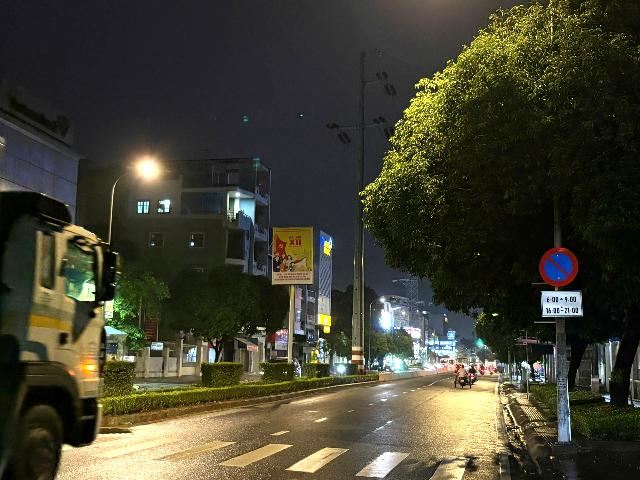cam-do-xe: (538, 246, 579, 288)
